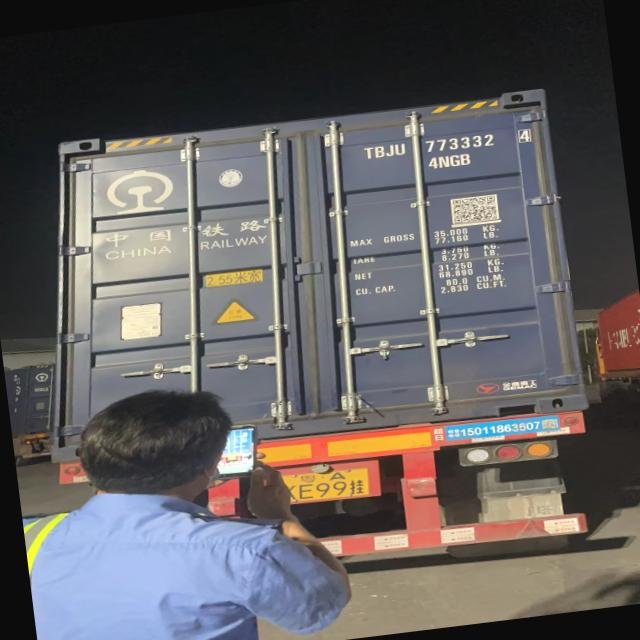seal: (372, 334, 394, 364)
